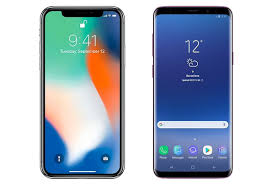iphone: (37, 6, 124, 180), (150, 4, 236, 178)
iphone10: (38, 6, 125, 180), (149, 5, 235, 179)
